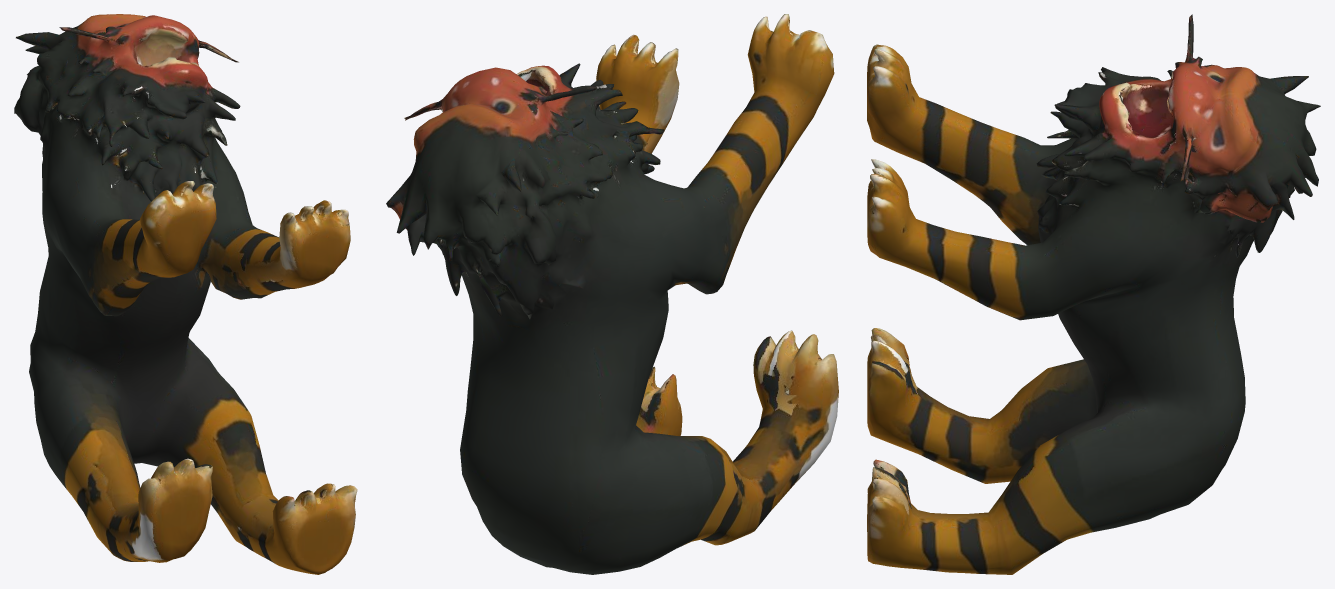
The model's file is Nue.glb.
3 renders of one model, left to right at view 1: azimuth 30°, elevation 25°; view 2: azimuth 150°, elevation 25°; view 3: azimuth 270°, elevation 25°, orthographic. The views are drawn at different scales.
Visible parts, largest first — view 1: Retopo_nue.002; view 2: Retopo_nue.002; view 3: Retopo_nue.002.
Part boxes in pixels (left/top/right/bottom): Retopo_nue.002: left=14, top=14, right=357, bottom=574; Retopo_nue.002: left=386, top=14, right=838, bottom=574; Retopo_nue.002: left=867, top=14, right=1320, bottom=574.
Bounding box in the file's own units: 1.01 × 1.94 × 1.57.
Materials: 1 (1 with a texture image).
